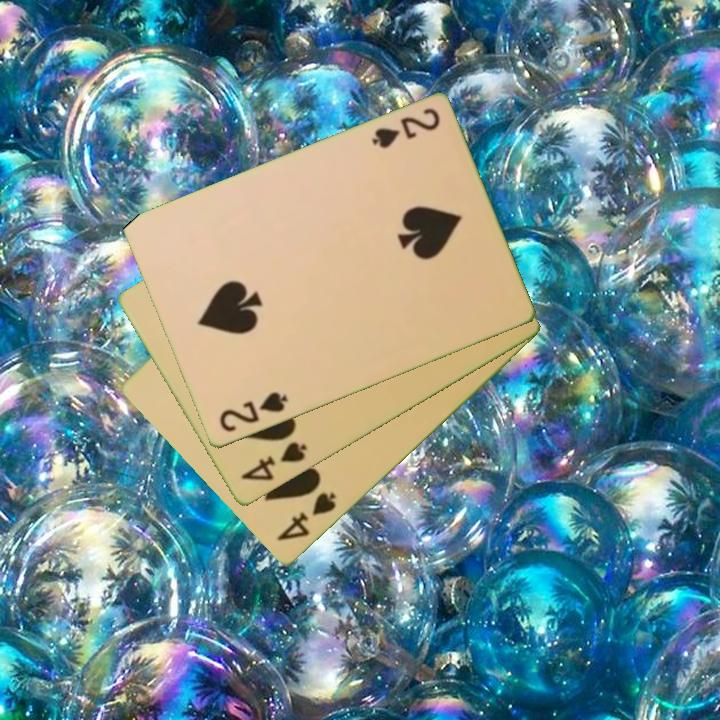2s: (215, 388, 291, 436), (367, 105, 443, 152)
4s: (273, 489, 340, 545), (237, 438, 311, 485)
